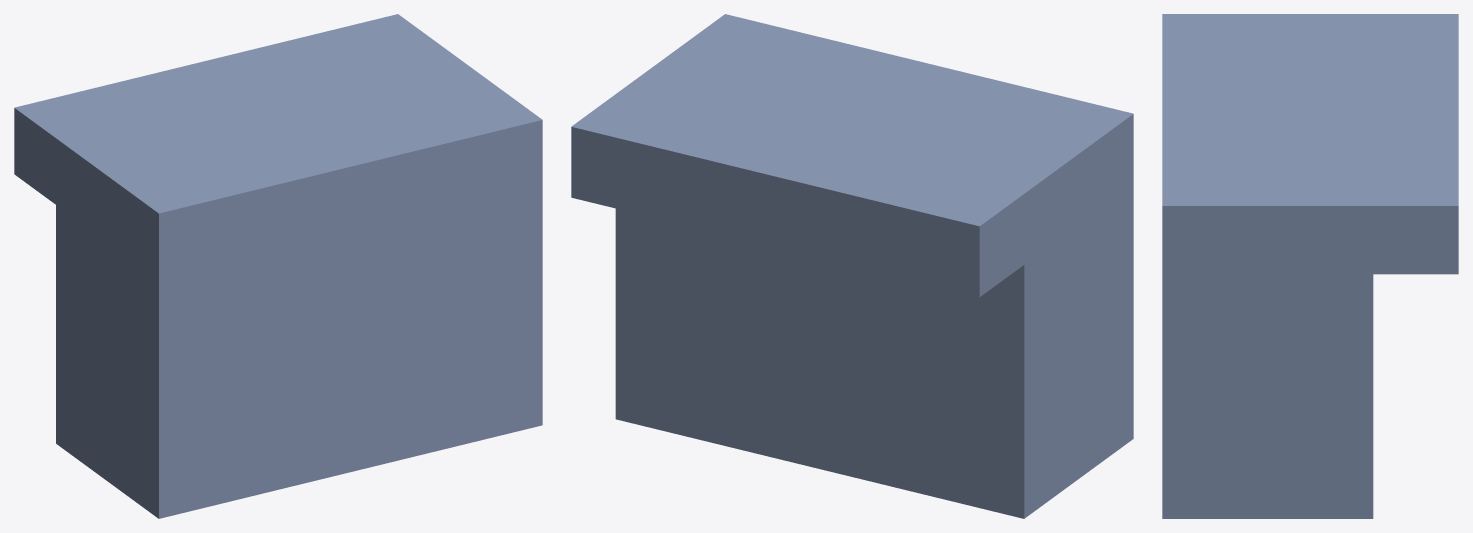
File: HLCounter1.fbx
3 views of the same model, side by side, from view 1: azimuth 30°, elevation 25°; view 2: azimuth 150°, elevation 25°; view 3: azimuth 270°, elevation 25° (orthographic). The views are drawn at different scales.
Parts seen in each view (by area): view 1: Counter; view 2: Counter; view 3: Counter.
Part boxes in pixels (x1,y1,x2,y2): Counter: (14, 14, 542, 518); Counter: (571, 14, 1133, 518); Counter: (1162, 14, 1458, 518).
Bounding box in the file's own units: 110 × 83.86 × 72.01.
